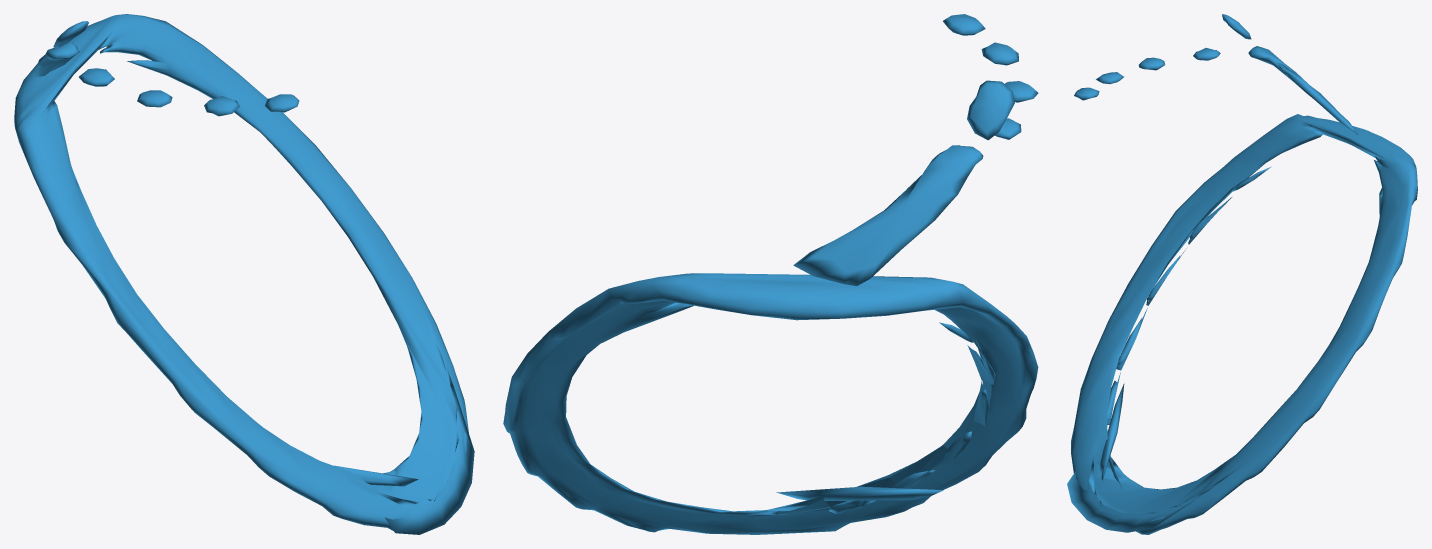
File: tower_snow.FBX
The picture shows the model from 3 angles, left to right: view 1: azimuth 30°, elevation 25°; view 2: azimuth 150°, elevation 25°; view 3: azimuth 270°, elevation 25°; orthographic projection. The views are drawn at different scales.
Visible parts, largest first — view 1: tower_snow; view 2: tower_snow; view 3: tower_snow.
Boxes of the visible parts, bbox=[...] form: tower_snow: bbox=[14, 14, 474, 534]; tower_snow: bbox=[503, 14, 1038, 534]; tower_snow: bbox=[1067, 14, 1417, 534].
Size of the model in its own units: 521 by 639 by 510.
